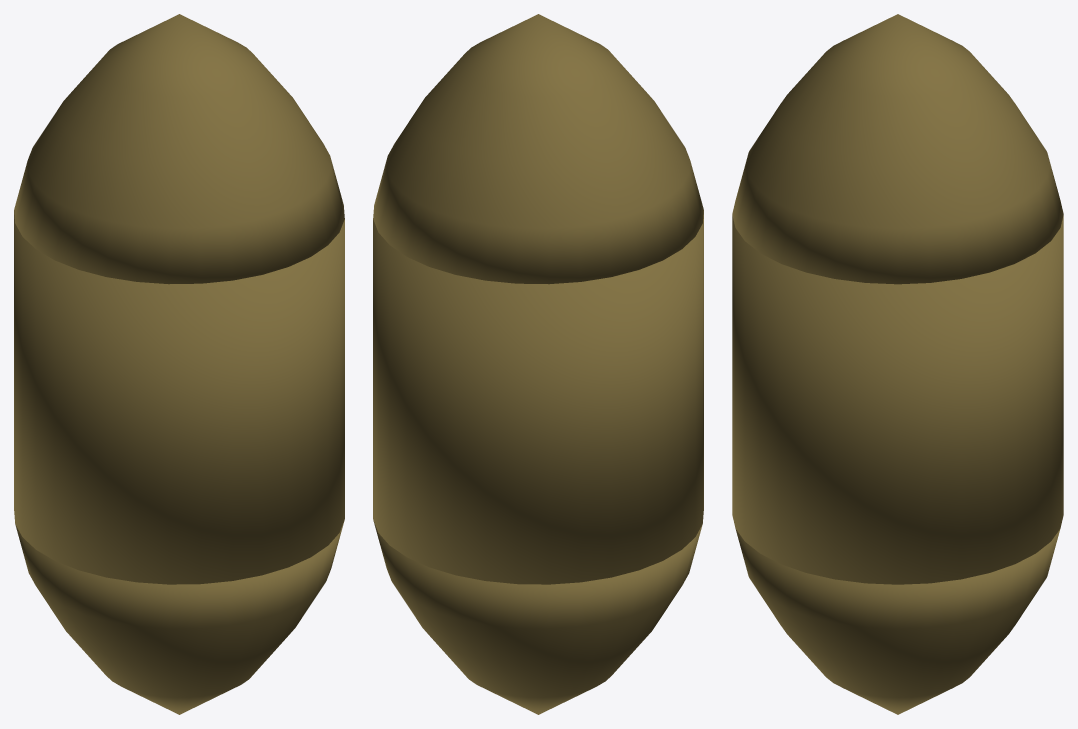
File: Seed.fbx
3 views of the same model, side by side, from view 1: azimuth 30°, elevation 25°; view 2: azimuth 150°, elevation 25°; view 3: azimuth 270°, elevation 25° (orthographic).
Parts seen in each view (by area): view 1: Cylinder, Cone.001, Cone.000; view 2: Cylinder, Cone.001, Cone.000; view 3: Cylinder, Cone.001, Cone.000.
Boxes of the visible parts, <box> form: Cylinder: <box>14,210,344,584</box>; Cone.001: <box>14,14,344,284</box>; Cone.000: <box>15,521,344,714</box>; Cylinder: <box>373,210,703,584</box>; Cone.001: <box>373,14,703,284</box>; Cone.000: <box>373,521,702,714</box>; Cylinder: <box>732,215,1063,584</box>; Cone.001: <box>732,14,1063,284</box>; Cone.000: <box>735,529,1060,714</box>.
Size of the model in its own units: 150 by 350 by 150.
